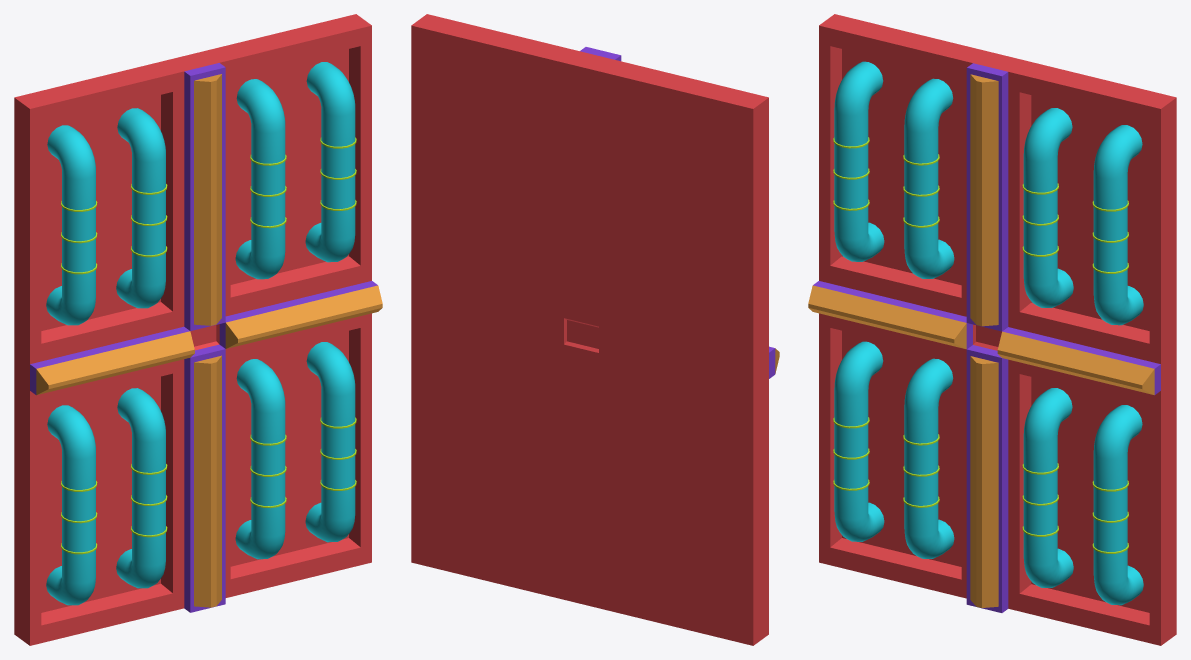
Rendered from WallV1UVID.fbx.
3 renders of one model, left to right at view 1: azimuth 30°, elevation 25°; view 2: azimuth 150°, elevation 25°; view 3: azimuth 330°, elevation 25°, orthographic.
Visible parts, largest first — view 1: Wall, Pipe.003, Pipe.005, Pipe.004, Pipe.006, Pipe.001, Pipe.007, Pipe.002, Pipe.008; view 2: Wall; view 3: Wall, Pipe.001, Pipe.008, Pipe.002, Pipe.007, Pipe.004, Pipe.006, Pipe.003, Pipe.005.
Boxes of the visible parts, x1,y1,x2,y2 form: Wall: (14,14,382,645); Pipe.003: (235,79,286,279); Pipe.005: (235,359,286,559); Pipe.004: (305,62,356,262); Pipe.006: (305,342,356,542); Pipe.001: (46,405,97,605); Pipe.007: (116,108,167,308); Pipe.002: (116,388,167,588); Pipe.008: (46,125,97,325); Wall: (411,14,779,645); Wall: (808,14,1176,645); Pipe.001: (833,341,884,541); Pipe.008: (833,61,884,261); Pipe.002: (903,358,954,558); Pipe.007: (903,78,954,278); Pipe.004: (1092,125,1143,325); Pipe.006: (1092,405,1143,605); Pipe.003: (1022,108,1073,307); Pipe.005: (1022,388,1073,587).
Size of the model in its own units: 65.95 by 98.93 by 11.1.
